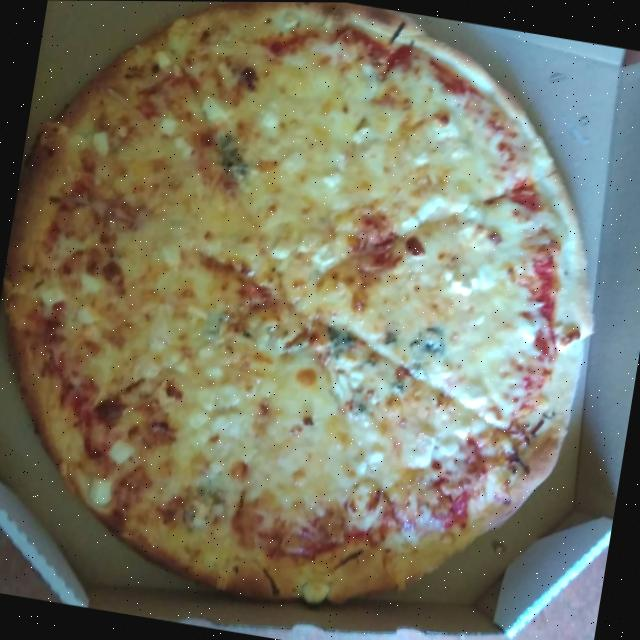basil: (176, 459, 233, 534), (404, 318, 452, 385), (206, 129, 258, 189), (319, 323, 362, 364), (345, 389, 376, 417), (379, 327, 401, 356), (390, 377, 408, 395)
pizza: (0, 0, 640, 640)
